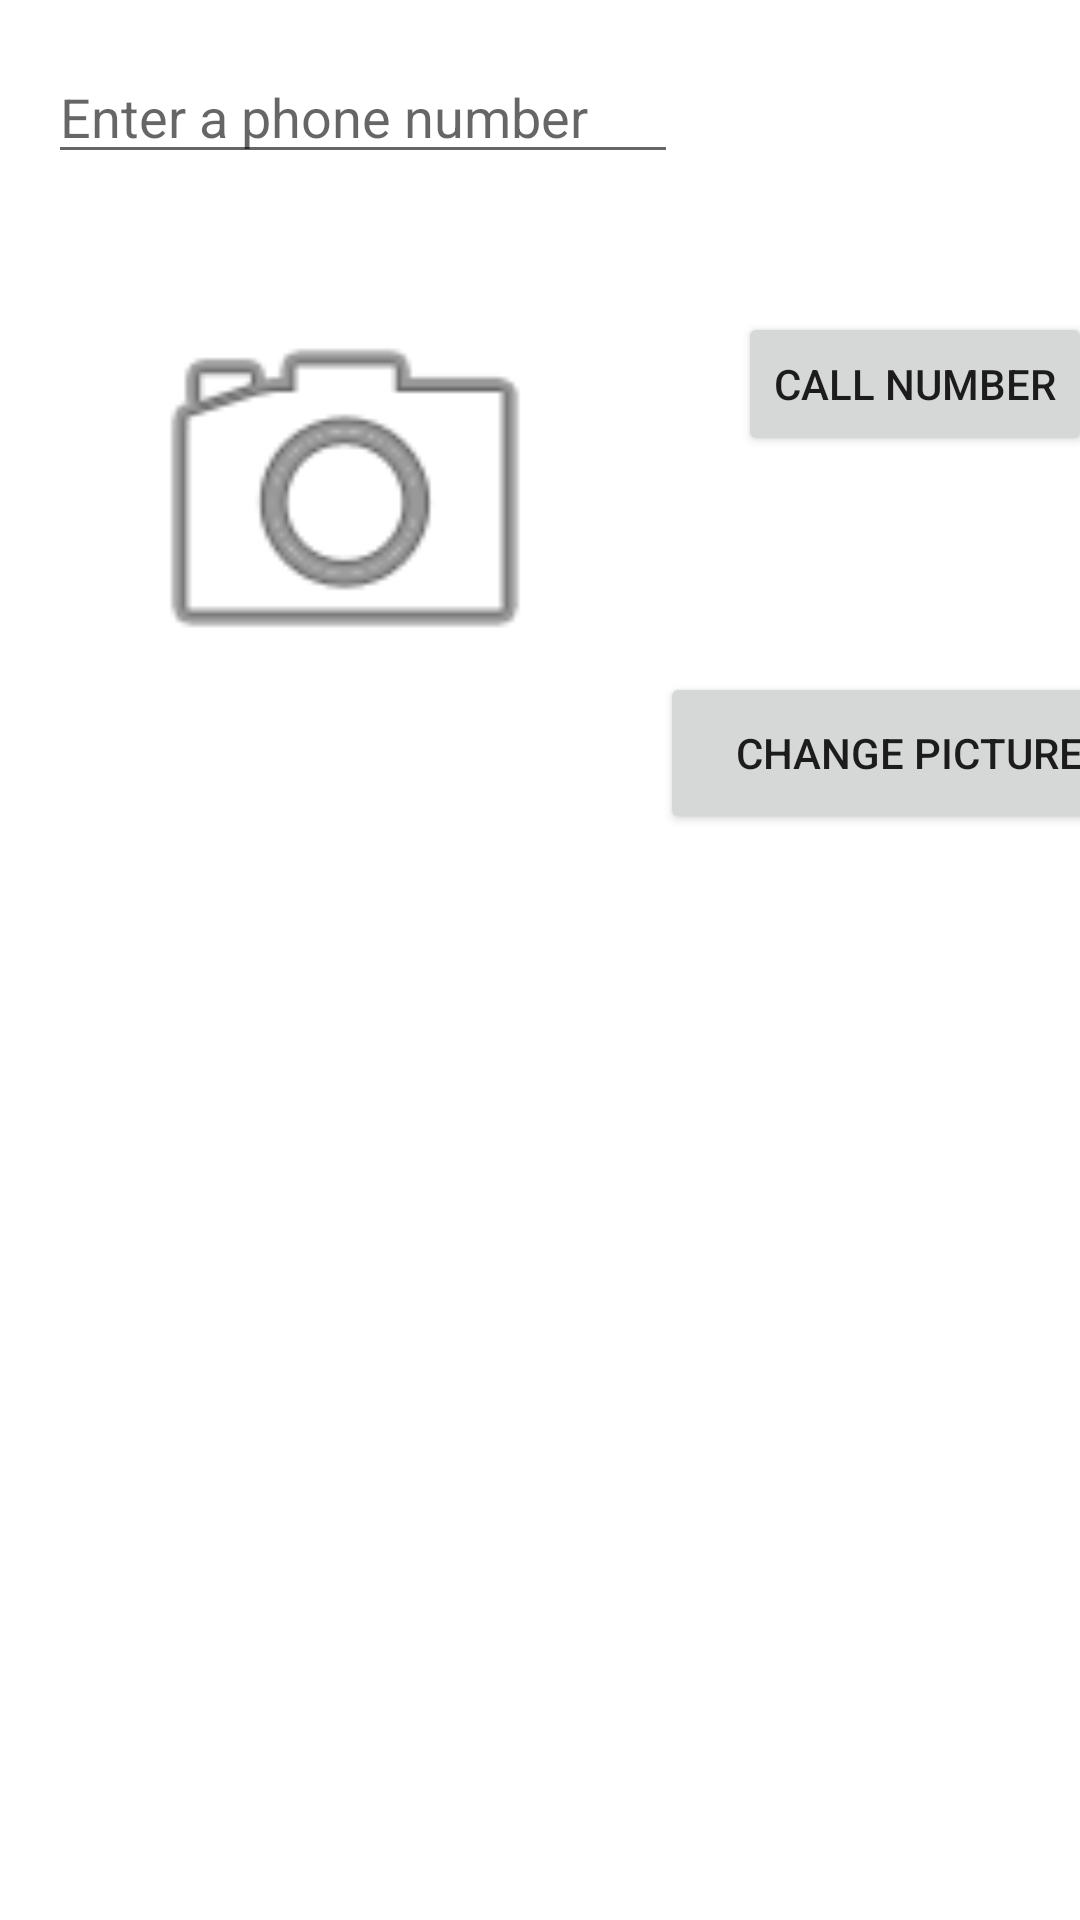

Named icons in this screenshot (1080×1920) and their centers, (x,y):
camera: (345,488)
